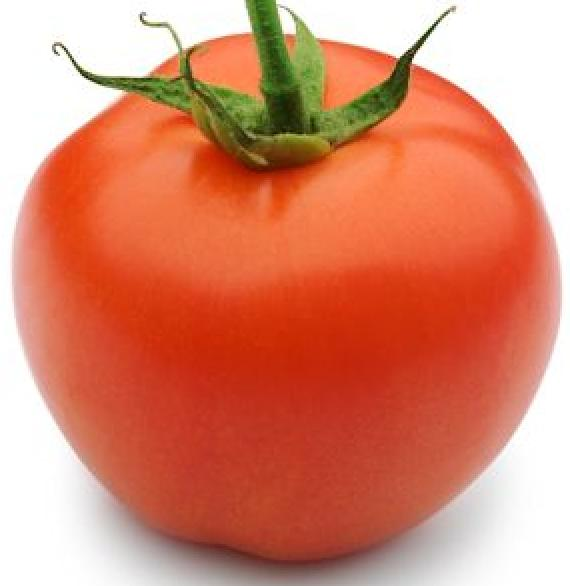tomato: (20, 37, 557, 565)
